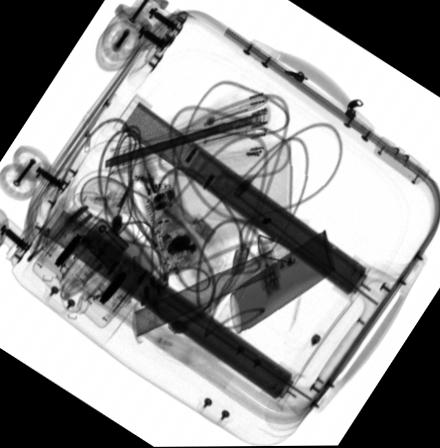Lighter: (79, 217, 129, 269)
